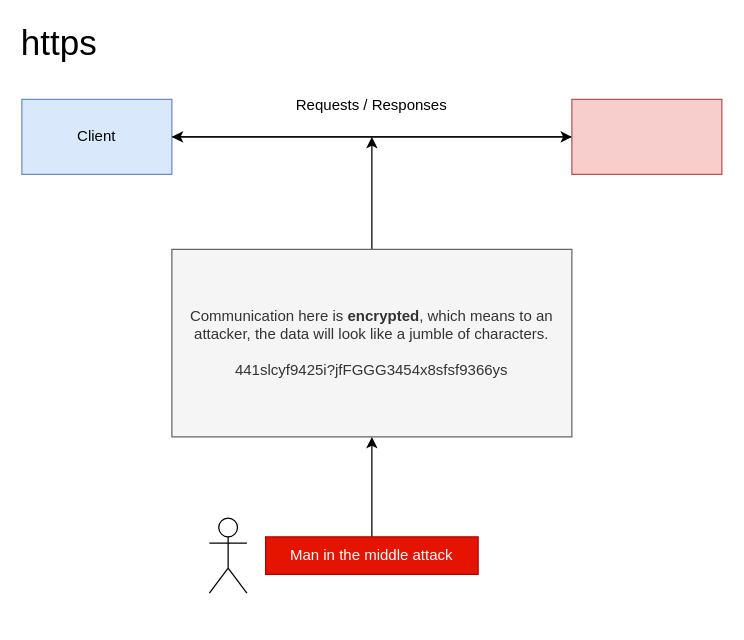
Image size: 744x640. Some labels were removed from this diagram. Each missing label, with the box of its shape:
Hacker: (208, 517, 247, 593)
Server: (571, 98, 722, 174)
